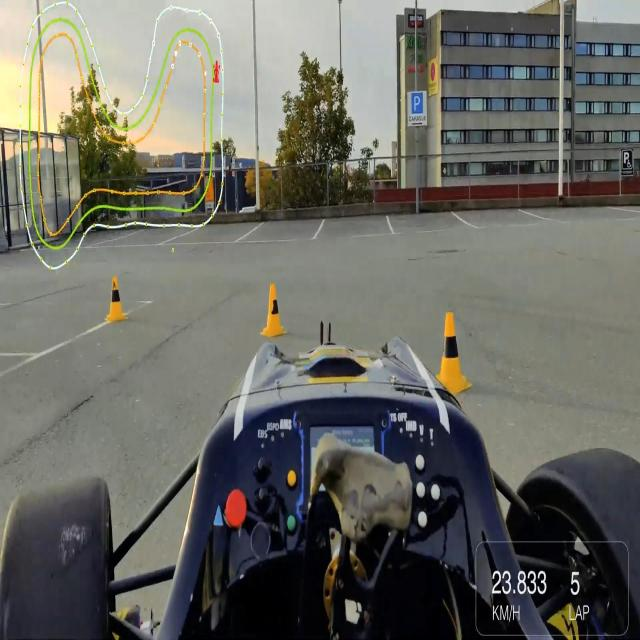yellow_cone: (437, 308, 473, 393), (260, 280, 288, 344), (102, 272, 130, 330)
